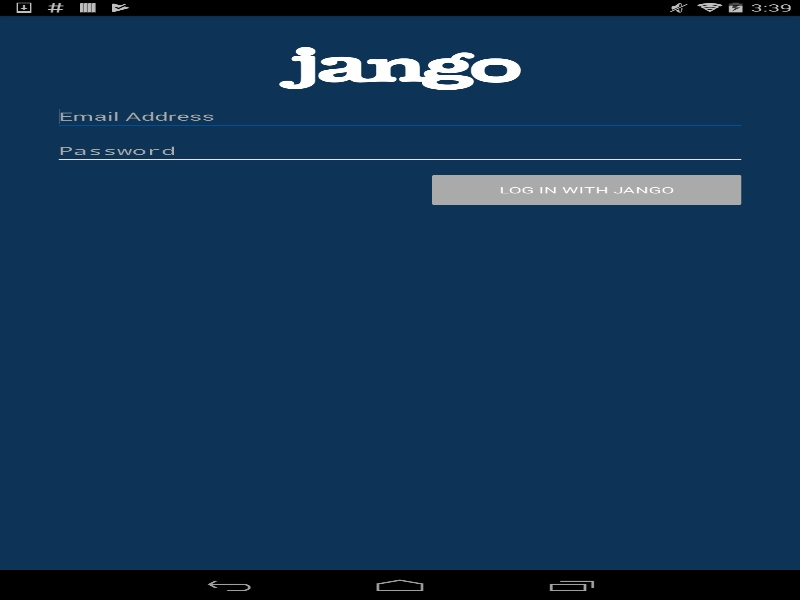Button: (426, 171, 746, 208)
Input: (53, 136, 746, 165), (53, 102, 746, 130)
